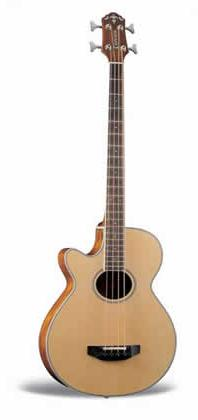guitar: (37, 10, 177, 397)
